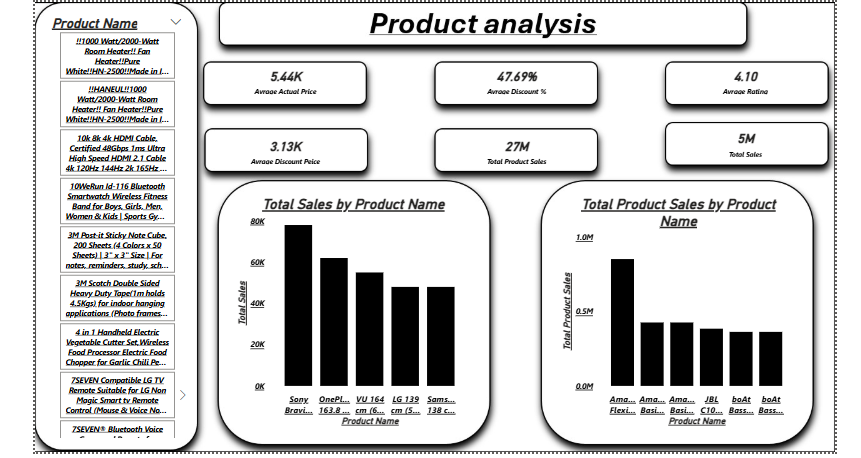

Layout of this report page (visuals, bound fields, positions):
{"tool":"powerbi","page":{"name":"Products Analysis","canvas":[1280,720],"ordinal":4},"visuals":[{"type":"image","box":[0,0,1280.3,720.4],"z":0},{"type":"card","fields":{"Values":["amazon.Avrage Discount %"]},"box":[650.4,98.8,241.5,54.9],"z":1000},{"type":"card","fields":{"Values":["amazon.Avrage Actual Price"]},"box":[279.9,98.8,241.5,54.9],"z":2000},{"type":"card","fields":{"Values":["amazon.Avrage Rating"]},"box":[1015.4,98.8,241.5,54.9],"z":3000},{"type":"card","fields":{"Values":["amazon.Avrage Discount Peice"]},"box":[279.9,209.9,241.5,54.9],"z":4000},{"type":"card","fields":{"Values":["amazon.Total Product Sales"]},"box":[650.4,209.9,241.5,54.9],"z":5000},{"type":"card","fields":{"Values":["amazon.Total Sales"]},"box":[1015.4,197.6,241.5,54.9],"z":6000},{"type":"slicer","fields":{"Values":["amazon.Product Name"]},"box":[13.7,16.5,233.3,682],"z":7000},{"type":"clusteredColumnChart","fields":{"Category":["amazon.Product Name"],"Y":["amazon.Total Sales"]},"box":[318.4,310.1,382.8,373.2],"z":8000},{"type":"clusteredColumnChart","fields":{"Category":["amazon.Product Name"],"Y":["amazon.Total Product Sales"]},"box":[838.4,310.1,382.8,373.2],"z":9000}]}

Visuals, with their boxes on the page's 1280x720 design canvas (x1, y1, x2, y2). These are canvas units, not pixel positions in the 861x458 screenshot, which may show the page scaled, cropped or inside an application window:
image: bbox=(0, 0, 1280, 720)
card - amazon.Avrage Discount %: bbox=(650, 99, 892, 154)
card - amazon.Avrage Actual Price: bbox=(280, 99, 521, 154)
card - amazon.Avrage Rating: bbox=(1015, 99, 1257, 154)
card - amazon.Avrage Discount Peice: bbox=(280, 210, 521, 265)
card - amazon.Total Product Sales: bbox=(650, 210, 892, 265)
card - amazon.Total Sales: bbox=(1015, 198, 1257, 252)
slicer - amazon.Product Name: bbox=(14, 16, 247, 698)
clusteredColumnChart - amazon.Product Name x amazon.Total Sales: bbox=(318, 310, 701, 683)
clusteredColumnChart - amazon.Product Name x amazon.Total Product Sales: bbox=(838, 310, 1221, 683)
